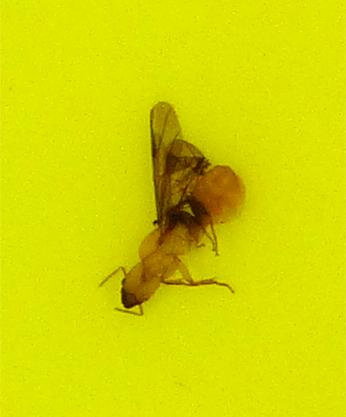Hymenoptera: (100, 100, 246, 317)
